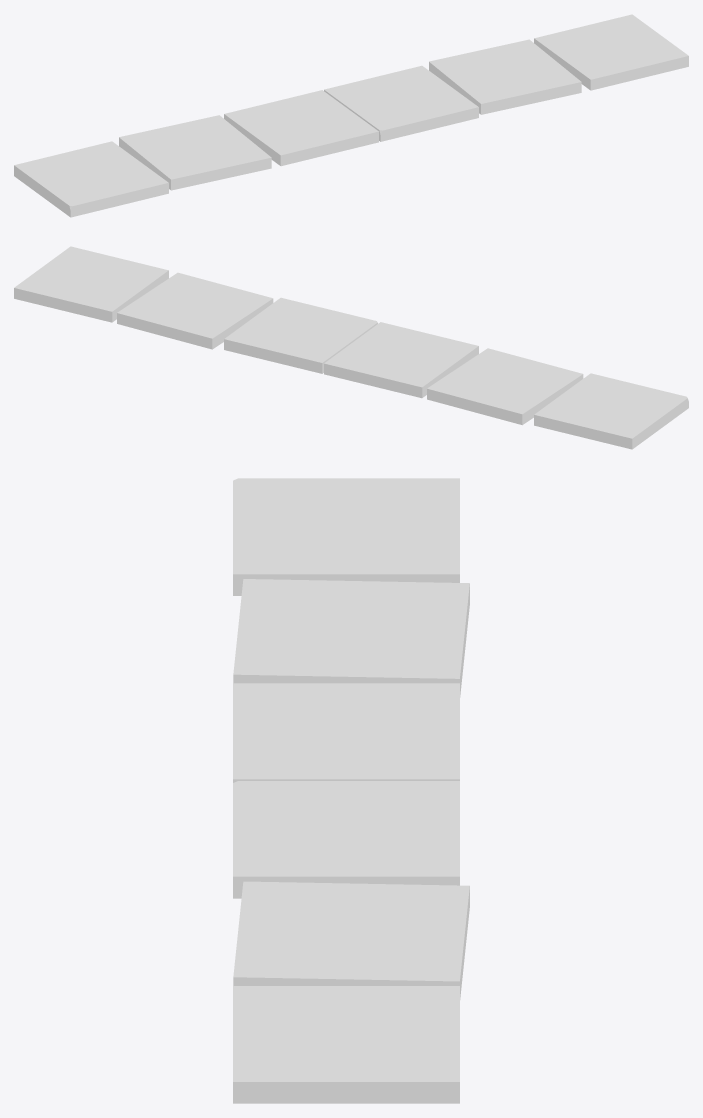
The model's file is object_22_lev1.glb.
The picture shows the model from 3 angles, top to bottom: view 1: azimuth 30°, elevation 25°; view 2: azimuth 150°, elevation 25°; view 3: azimuth 270°, elevation 25°; orthographic projection. The views are drawn at different scales.
Visible parts, largest first — view 1: object_22_lev1; view 2: object_22_lev1; view 3: object_22_lev1.
Boxes of the visible parts, x1=… form: object_22_lev1: x1=14, y1=14, x2=688, y2=217; object_22_lev1: x1=14, y1=246, x2=688, y2=449; object_22_lev1: x1=233, y1=478, x2=469, y2=1103.
Bounding box in the file's own units: 1.19 × 0.02 × 0.1973.
1 material, 1 textured.
